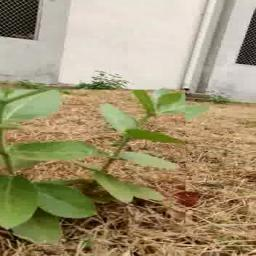CALOTROPIS: (0, 90, 186, 240)
